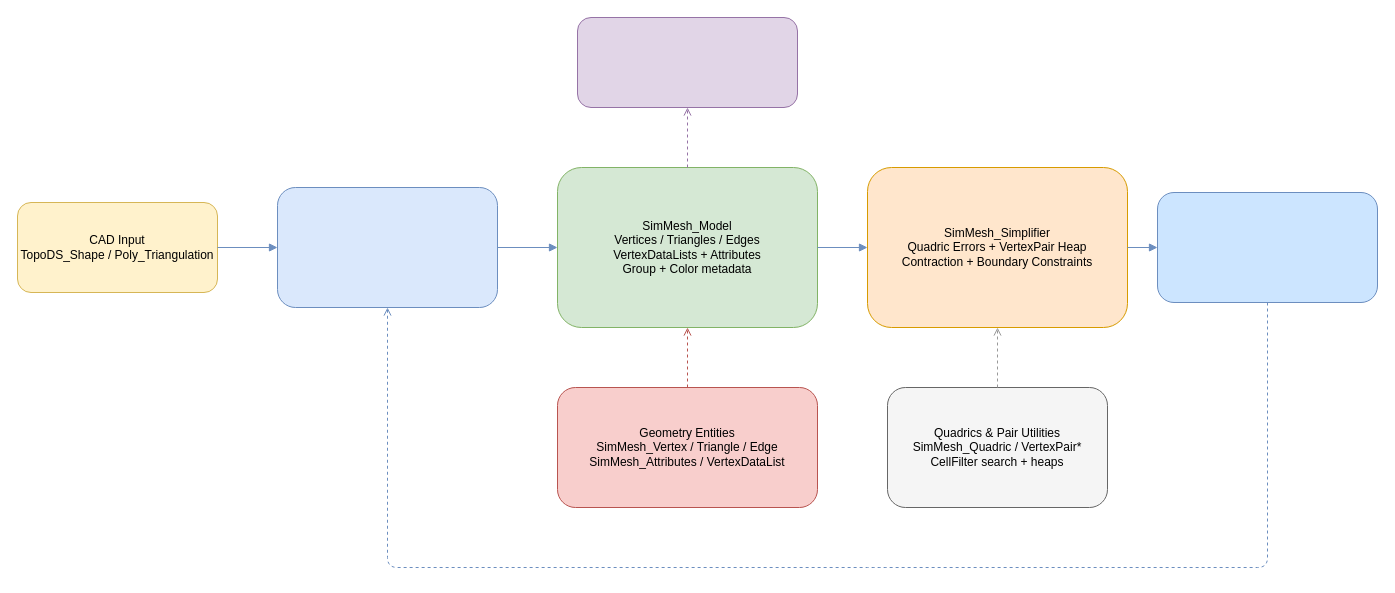
Some shapes in this 1395 by 593 pixel diagram are drawn without their labels. The shapes that lost their labels are listed below. From the top down, each one's centre as x and y in pixels, then its label:
At (687,62): "SimMesh_Persistence Load / Save .smesh Versioned format".
At (387,247): "SimMesh Facade ModelFromShape / ShapeFromModel / ExtractTriangulation".
At (1267,247): "Outputs Simplified Shape / Triangulation Max error + statistics".
